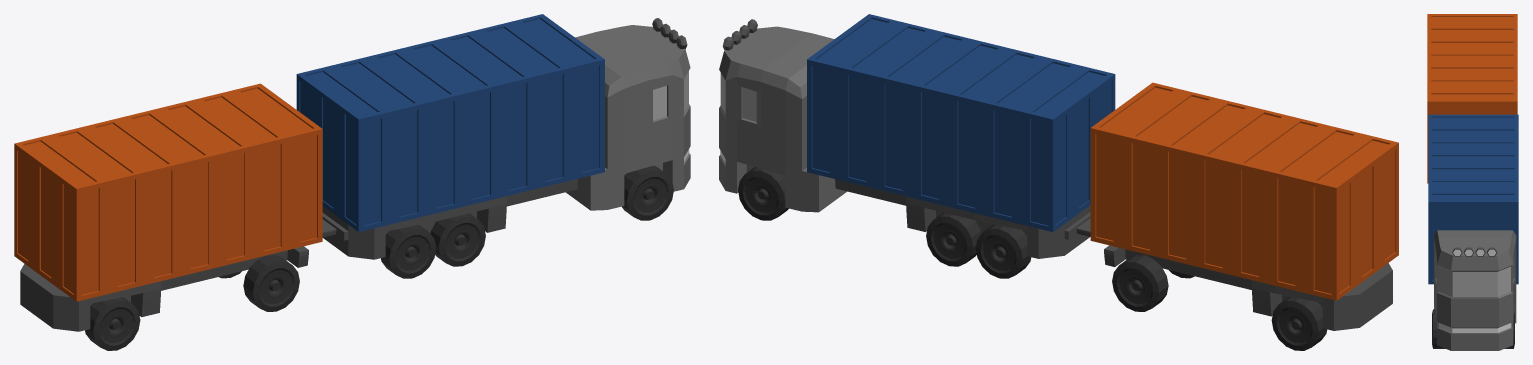
3 views of the same model, side by side, from view 1: azimuth 30°, elevation 25°; view 2: azimuth 150°, elevation 25°; view 3: azimuth 270°, elevation 25° (orthographic). The views are drawn at different scales.
Visible parts, largest first — view 1: Cube.035, Cube.028, B-4, Cube.058, Cylinder.062, Cylinder.054, Cylinder.060, Cylinder.056, Cylinder.058; view 2: Cube.035, Cube.028, B-4, Cube.058, Cylinder.063, Cylinder.055, Cylinder.061, Cylinder.057, Cylinder.059; view 3: Cube.028, B-4, Cube.035, Cylinder.058, Cylinder.059.
Part boxes in pixels (x1,y1,x2,y2): Cube.035: (14,83,322,301); Cube.028: (296,14,604,231); B-4: (322,18,690,259); Cube.058: (20,219,336,331); Cylinder.062: (243,255,299,311); Cylinder.054: (381,225,436,278); Cylinder.060: (85,297,140,350); Cylinder.056: (430,213,485,266); Cylinder.058: (622,165,673,220); Cube.035: (1090,82,1398,300); Cube.028: (807,14,1115,231); B-4: (719,19,1090,258); Cube.058: (1076,218,1392,330); Cylinder.063: (1112,255,1168,311); Cylinder.055: (975,224,1031,278); Cylinder.061: (1271,296,1327,350); Cylinder.057: (926,212,981,266); Cylinder.059: (738,167,788,220); Cube.028: (1428,114,1518,284); B-4: (1434,230,1516,350); Cube.035: (1427,14,1517,183); Cylinder.058: (1432,309,1445,348); Cylinder.059: (1504,312,1514,348).
Size of the model in its own units: 5376 by 1409 by 916.
